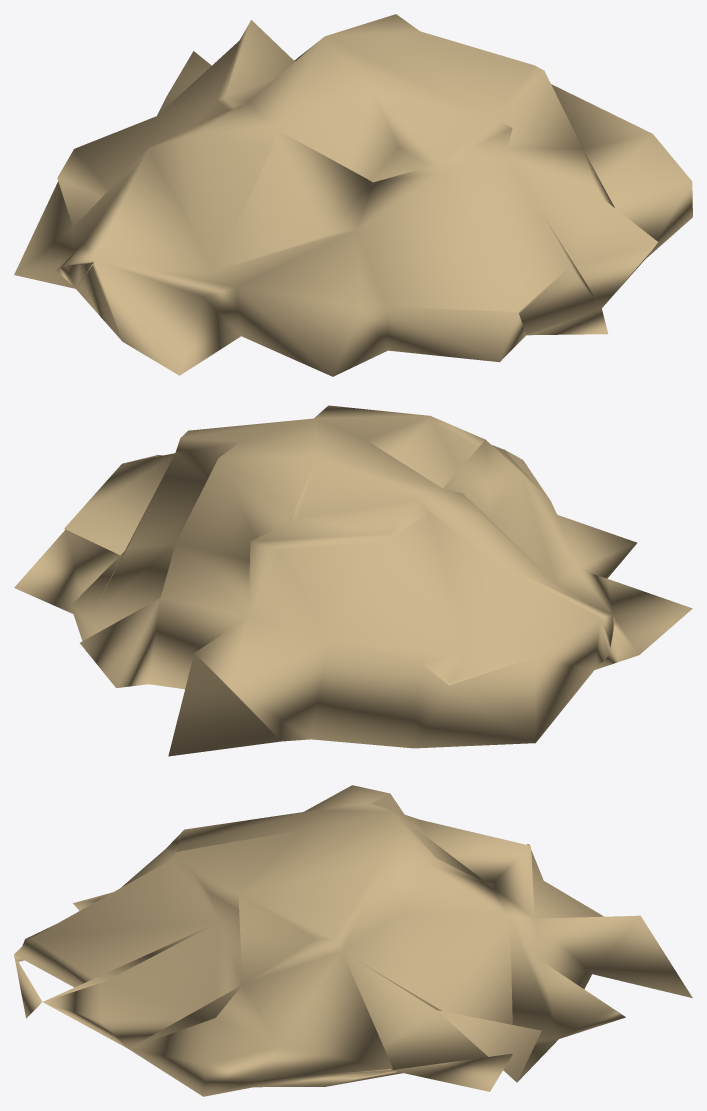
The model's file is nuruk_grain.glb.
The picture shows the model from 3 angles, top to bottom: view 1: azimuth 30°, elevation 25°; view 2: azimuth 150°, elevation 25°; view 3: azimuth 270°, elevation 25°; orthographic projection. The views are drawn at different scales.
Parts seen in each view (by area): view 1: nuruk_grain; view 2: nuruk_grain; view 3: nuruk_grain.
Part boxes in pixels (<box>): nuruk_grain: <box>14,14,692,376</box>; nuruk_grain: <box>14,405,692,756</box>; nuruk_grain: <box>14,785,692,1096</box>.
Size of the model in its own units: 48.49 by 17.19 by 54.64.
